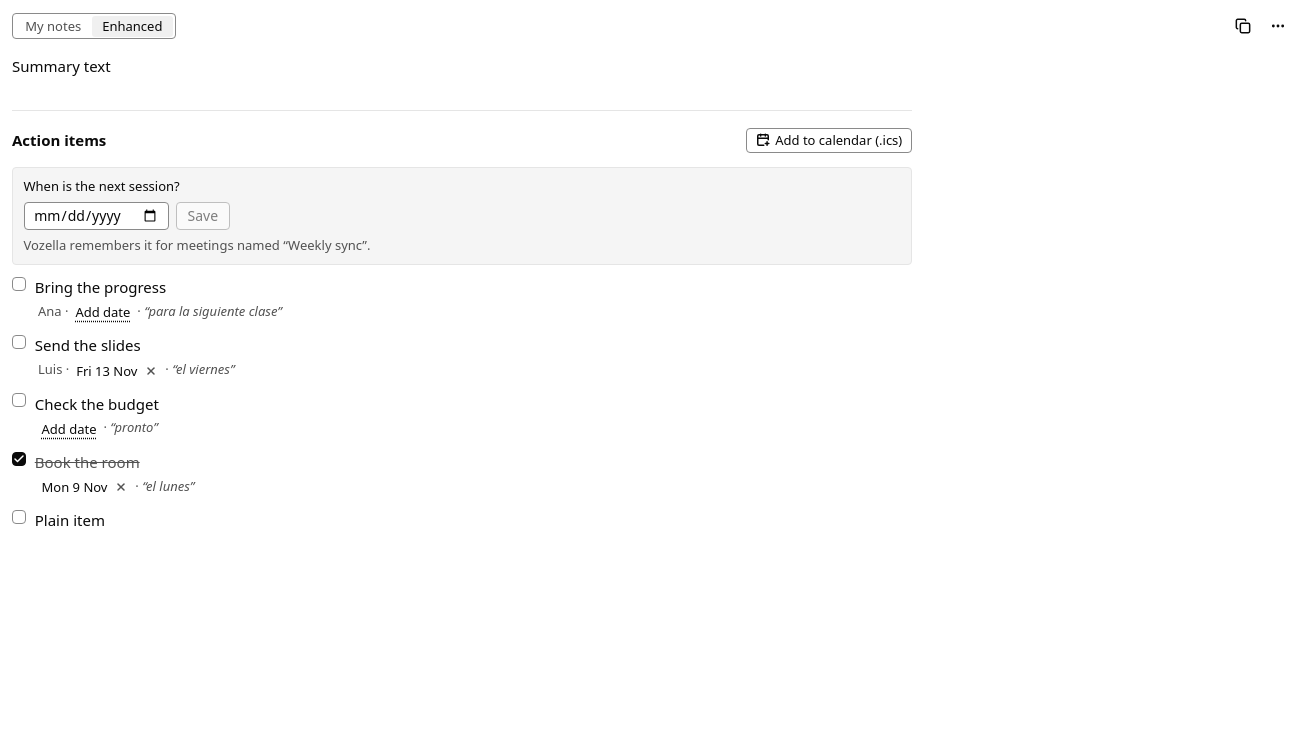
Scenario: action item details › edits the date inline, saves it and shows the saved list
Click the button with aria-label "Change the date, Fri 13 Nov" at (107, 370), box [73,360,141,381]
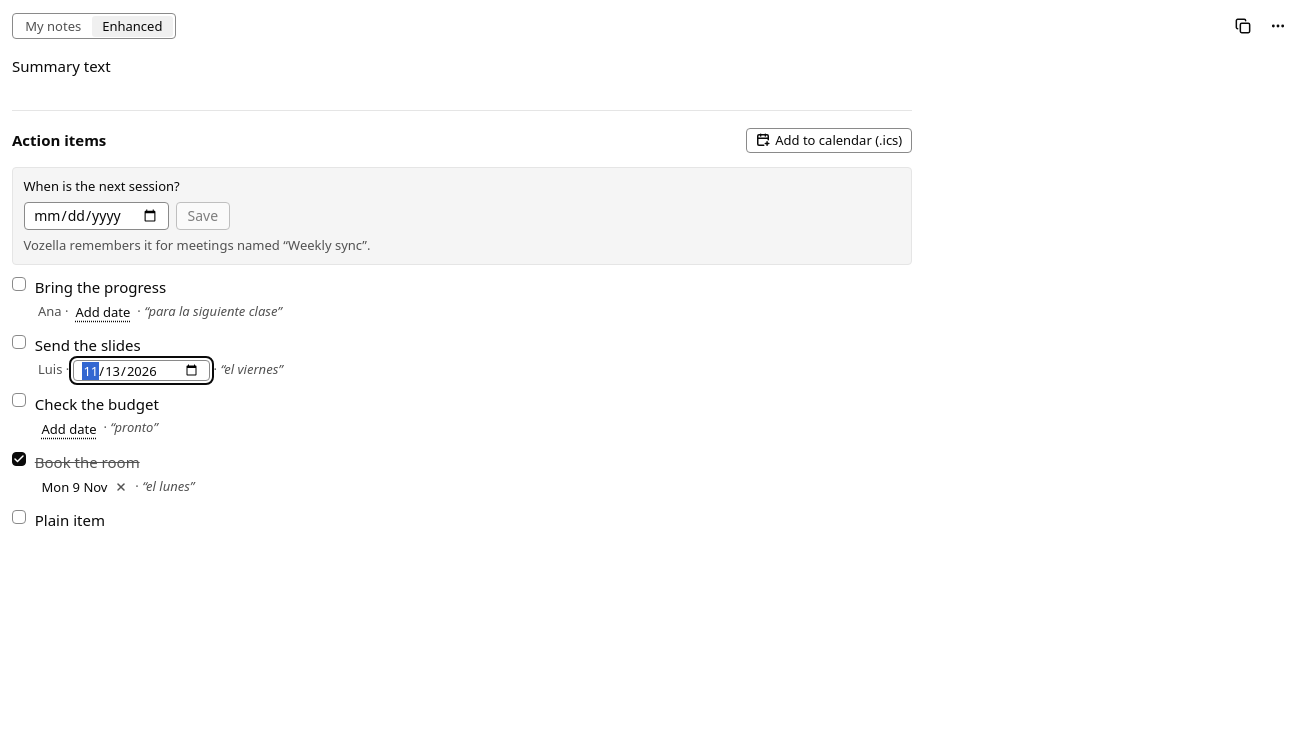
Expected: the date field named "Due date for Send the slides" holds "2026-11-13"
Type "2026-11-20" into the date field named "Due date for Send the slides" at (141, 370), box [73,360,210,381]
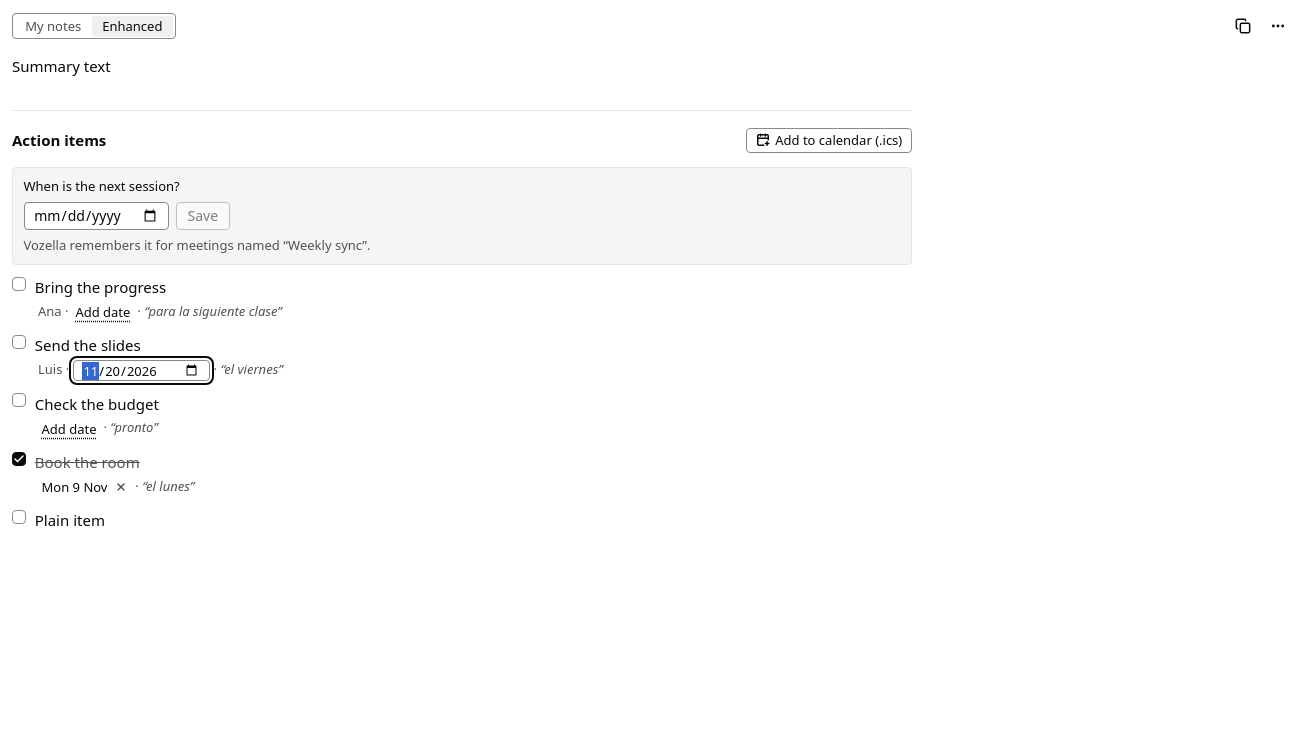
Press Enter in the date field named "Due date for Send the slides", box [73,360,210,381]
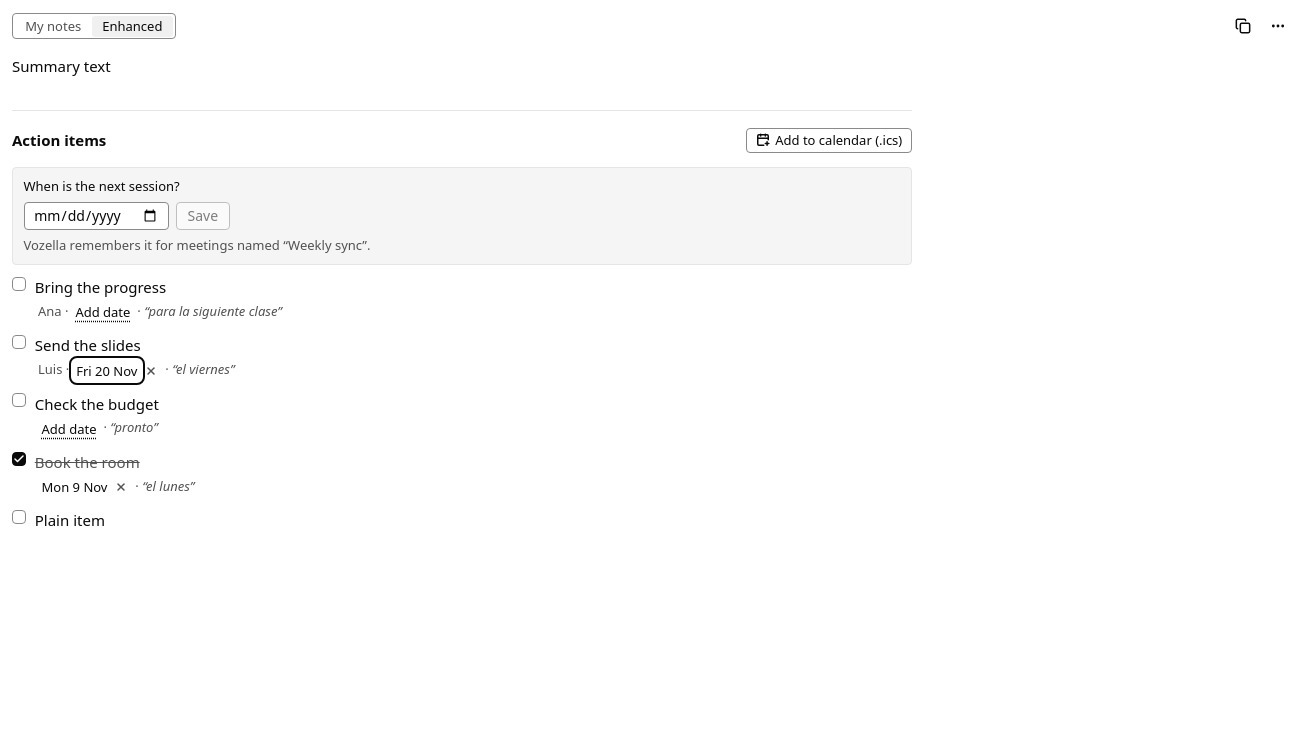
Expected: the element with test id "ActionItemMeta" shows "Fri 20 Nov", [73,360,141,381]
